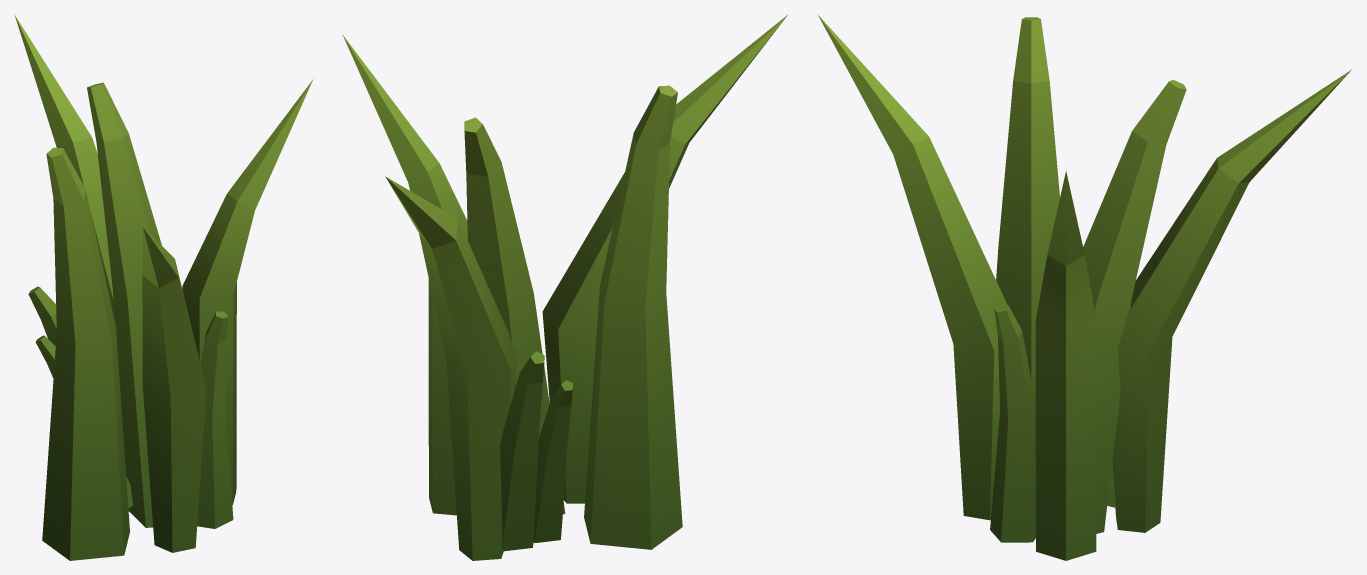
The model's file is hierba1.fbx.
3 renders of one model, left to right at view 1: azimuth 30°, elevation 25°; view 2: azimuth 150°, elevation 25°; view 3: azimuth 270°, elevation 25°, orthographic. The views are drawn at different scales.
Parts seen in each view (by area): view 1: hierba1; view 2: hierba1; view 3: hierba1.
Boxes of the visible parts, bbox=[...] form: hierba1: bbox=[14, 14, 312, 560]; hierba1: bbox=[342, 15, 787, 560]; hierba1: bbox=[818, 15, 1351, 560].
Bounding box in the file's own units: 142 × 195 × 211.
